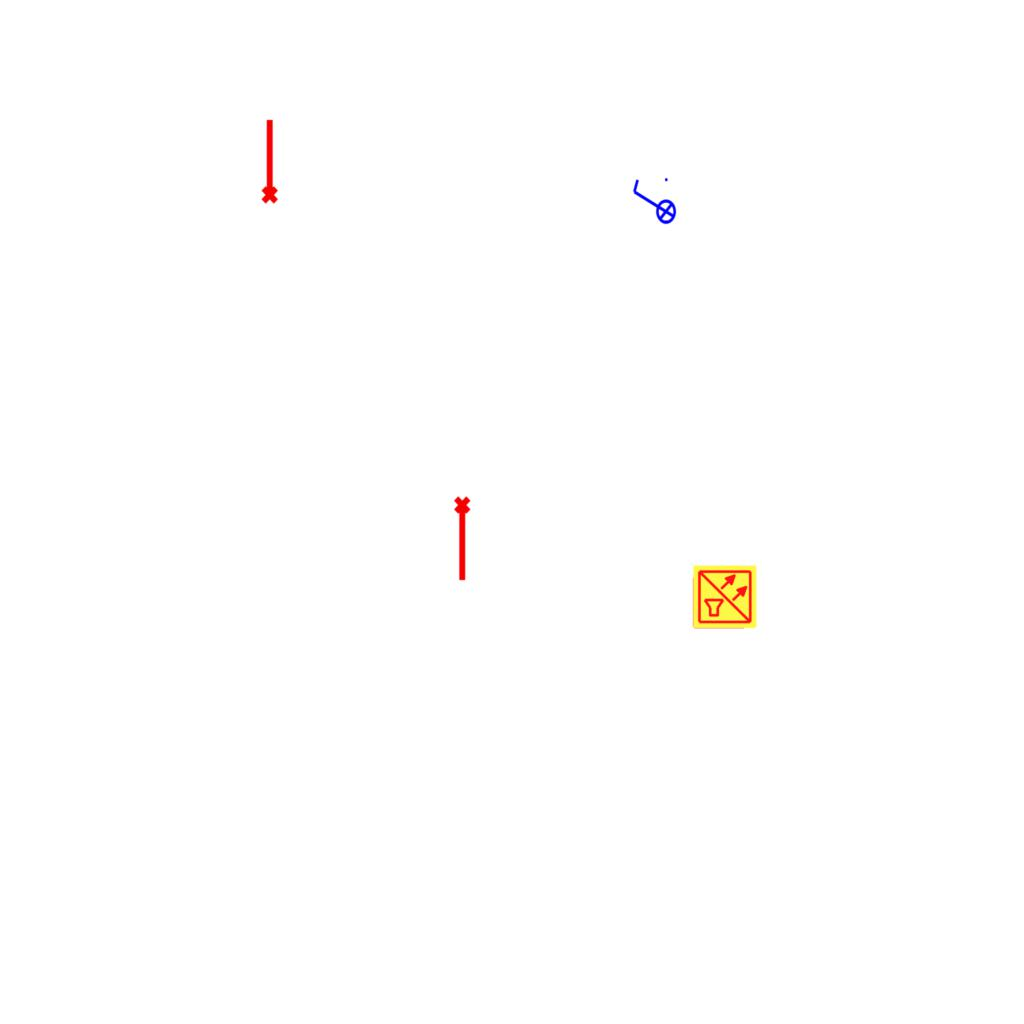ASR_Ansaugoeffnung: (452, 495, 475, 583), (257, 117, 280, 205)
Ausschalter_beleuchtet: (628, 174, 678, 232)
OKW_Multisensormelder_(Kombination_optischer_Rauch-Kahlenmonoxid_Waerme-Melder): (692, 564, 758, 630)
